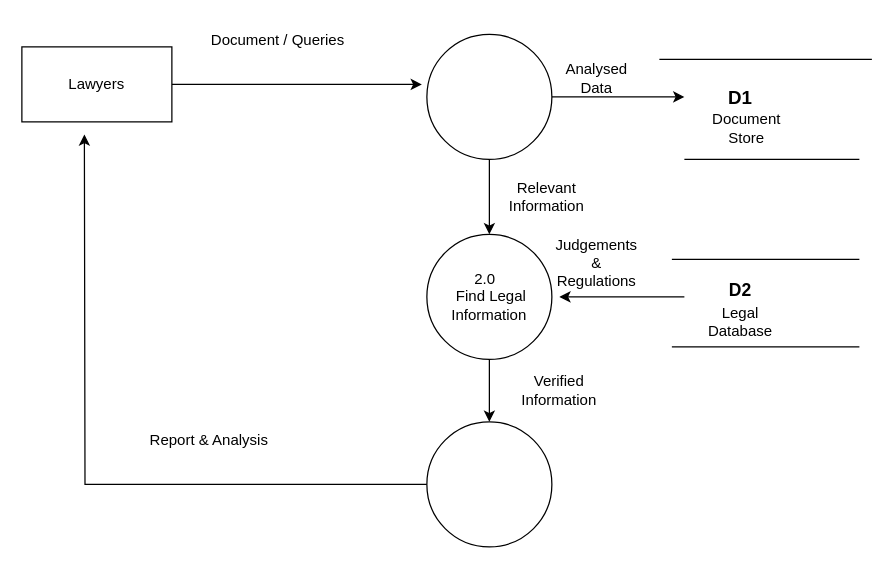
Some shapes in this 895 by 569 pixel diagram are drawn without their labels. The centre of each missing label's shape, as x and y in pixels:
"1.0 Analyse Documents" goes at [489,96].
"3.0 Generate Report" goes at [489,484].
